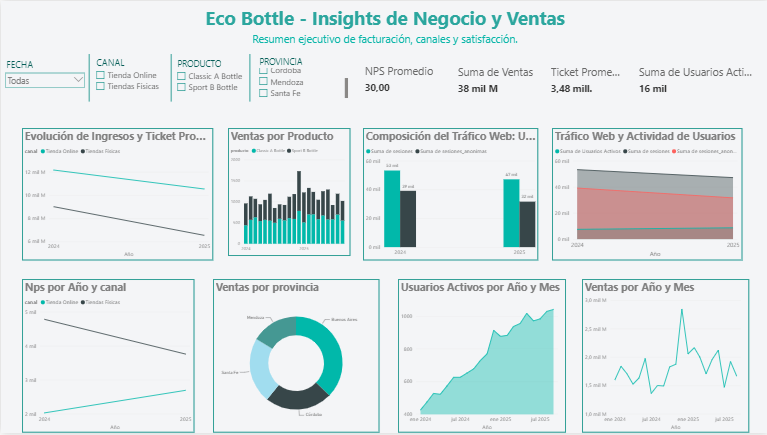

The dashboard page shown, as its layout file describes it:
{"tool":"powerbi","page":{"name":"ECO BOTTLE","canvas":[1920,1080],"ordinal":0},"visuals":[{"type":"lineChart","title":"Evolución de Ingresos y Ticket Promedio","fields":{"Category":["mart_ventas_mensual.mes.Variation.Jerarquía de fechas.Año","mart_ventas_mensual.mes.Variation.Jerarquía de fechas.Trimestre","mart_ventas_mensual.mes.Variation.Jerarquía de fechas.Mes","mart_ventas_mensual.mes.Variation.Jerarquía de fechas.Día"],"Series":["mart_ventas_mensual.canal"],"Y":["Sum(mart_ventas_mensual.ventas)"]},"box":[53.3,317.8,477.8,331.1],"z":0},{"type":"columnChart","title":"Ventas por Producto","fields":{"Category":["mart_producto_mensual.mes"],"Series":["mart_producto_mensual.producto"],"Y":["Sum(mart_producto_mensual.unidades)"]},"box":[567.1,317.1,305.7,320],"z":1000},{"type":"lineChart","title":"Nps por Año y canal","fields":{"Category":["mart_nps_mensual.mes.Variation.Jerarquía de fechas.Año","mart_nps_mensual.mes.Variation.Jerarquía de fechas.Trimestre","mart_nps_mensual.mes.Variation.Jerarquía de fechas.Mes","mart_nps_mensual.mes.Variation.Jerarquía de fechas.Día"],"Series":["mart_nps_mensual.canal"],"Y":["Sum(mart_nps_mensual.nps)"]},"box":[53.3,695.6,431.1,384.4],"z":2000},{"type":"areaChart","title":"Tráfico Web y Actividad de Usuarios","fields":{"Category":["mart_usuarios_mensual.mes.Variation.Jerarquía de fechas.Año","mart_usuarios_mensual.mes.Variation.Jerarquía de fechas.Trimestre","mart_usuarios_mensual.mes.Variation.Jerarquía de fechas.Mes","mart_usuarios_mensual.mes.Variation.Jerarquía de fechas.Día"],"Y":["Sum(mart_usuarios_mensual.usuarios_activos)","Sum(mart_usuarios_mensual.sesiones)","Sum(mart_usuarios_mensual.sesiones_anonimas)"]},"box":[1377.8,317.8,475.6,331.1],"z":3000},{"type":"clusteredColumnChart","title":"Composición del Tráfico Web: Usuarios vs. Sesiones Anónimas","fields":{"Category":["mart_usuarios_mensual.mes.Variation.Jerarquía de fechas.Año","mart_usuarios_mensual.mes.Variation.Jerarquía de fechas.Mes"],"Y":["Sum(mart_usuarios_mensual.sesiones)","Sum(mart_usuarios_mensual.sesiones_anonimas)"]},"box":[904.3,317.1,437.8,331.1],"z":4000},{"type":"cardVisual","fields":{"Data":["Sum(mart_ventas_mensual.ventas)"]},"box":[1124.4,122.2,233.3,146.7],"z":5000},{"type":"cardVisual","fields":{"Data":["mart_nps_mensual.ticket promedio"]},"box":[1357.8,122.2,220,146.7],"z":6000},{"type":"cardVisual","fields":{"Data":["mart_nps_mensual.NPS Promedio"]},"box":[893.3,120,231.1,146.7],"z":7000},{"type":"cardVisual","fields":{"Data":["Sum(mart_usuarios_mensual.usuarios_activos)"]},"box":[1577.8,122.2,326.7,146.7],"z":8000},{"type":"textbox","title":"Eco Bottle - Insights de Negocio y Ventas","box":[0,24.4,1920,97.8],"z":9000},{"type":"slicer","fields":{"Values":["mart_ventas_mensual.mes"]},"box":[0,137.8,220,115],"z":10000},{"type":"slicer","fields":{"Values":["mart_ventas_mensual.canal"]},"box":[224.4,133.3,202.2,120],"z":11000},{"type":"slicer","fields":{"Values":["mart_ventas_mensual.provincia"]},"box":[633.3,133.3,240,115],"z":12000},{"type":"slicer","fields":{"Values":["mart_producto_mensual.producto"]},"box":[426.7,137.8,207.5,115],"z":13000},{"type":"lineChart","title":"Ventas por Año y Mes","fields":{"Category":["mart_ventas_mensual.mes.Variation.Jerarquía de fechas.Año","mart_ventas_mensual.mes.Variation.Jerarquía de fechas.Mes"],"Y":["Sum(mart_ventas_mensual.ventas)"]},"box":[1453.3,695.6,417.8,384.4],"z":14000},{"type":"stackedAreaChart","title":"Usuarios Activos por Año y Mes ","fields":{"Category":["mart_usuarios_mensual.mes.Variation.Jerarquía de fechas.Año","mart_usuarios_mensual.mes.Variation.Jerarquía de fechas.Trimestre","mart_usuarios_mensual.mes.Variation.Jerarquía de fechas.Mes","mart_usuarios_mensual.mes.Variation.Jerarquía de fechas.Día"],"Y":["Sum(mart_usuarios_mensual.usuarios_activos)"]},"box":[993.3,695.6,420,384.4],"z":15000},{"type":"donutChart","title":"Ventas por provincia","fields":{"Category":["mart_ventas_mensual.provincia"],"Y":["Sum(mart_ventas_mensual.Ventas)"]},"box":[531.1,695.6,415.6,384.4],"z":16000},{"type":"shape","box":[146.7,133.3,145.8,119.4],"z":17000},{"type":"shape","box":[548.9,133.3,144.4,119.4],"z":18000},{"type":"shape","box":[353.3,133.3,145.8,119.4],"z":19000}]}

Visuals, with their boxes in screenshot pixels (x1, y1, x2, y2), scaled from the page's 1920x1080 canvas onto the 767x435 screenshot:
"Evolución de Ingresos y Ticket Promedio" lineChart: bbox=[21, 128, 212, 261]
"Ventas por Producto" columnChart: bbox=[227, 128, 349, 257]
"Nps por Año y canal" lineChart: bbox=[21, 280, 194, 434]
"Tráfico Web y Actividad de Usuarios" areaChart: bbox=[550, 128, 740, 261]
"Composición del Tráfico Web: Usuarios vs. Sesiones Anónimas" clusteredColumnChart: bbox=[361, 128, 536, 261]
cardVisual - Sum(mart_ventas_mensual.ventas): bbox=[449, 49, 542, 108]
cardVisual - mart_nps_mensual.ticket promedio: bbox=[542, 49, 630, 108]
cardVisual - mart_nps_mensual.NPS Promedio: bbox=[357, 48, 449, 107]
cardVisual - Sum(mart_usuarios_mensual.usuarios_activos): bbox=[630, 49, 761, 108]
"Eco Bottle - Insights de Negocio y Ventas" textbox: bbox=[0, 10, 766, 49]
slicer - mart_ventas_mensual.mes: bbox=[0, 56, 88, 102]
slicer - mart_ventas_mensual.canal: bbox=[90, 54, 170, 102]
slicer - mart_ventas_mensual.provincia: bbox=[253, 54, 349, 100]
slicer - mart_producto_mensual.producto: bbox=[170, 56, 253, 102]
"Ventas por Año y Mes" lineChart: bbox=[581, 280, 747, 434]
"Usuarios Activos por Año y Mes " stackedAreaChart: bbox=[397, 280, 565, 434]
"Ventas por provincia" donutChart: bbox=[212, 280, 378, 434]
shape: bbox=[59, 54, 117, 102]
shape: bbox=[219, 54, 277, 102]
shape: bbox=[141, 54, 199, 102]
